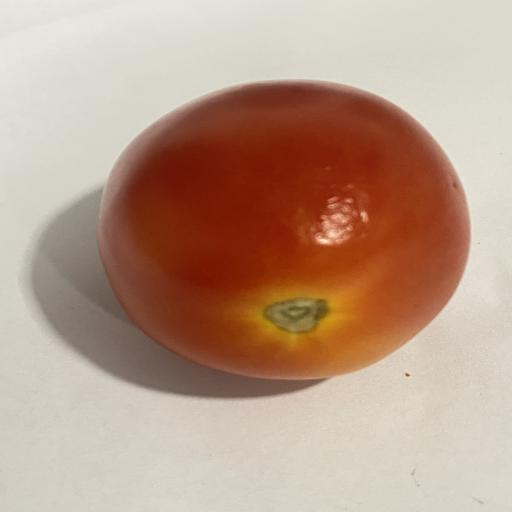overipe: (97, 81, 469, 379)
